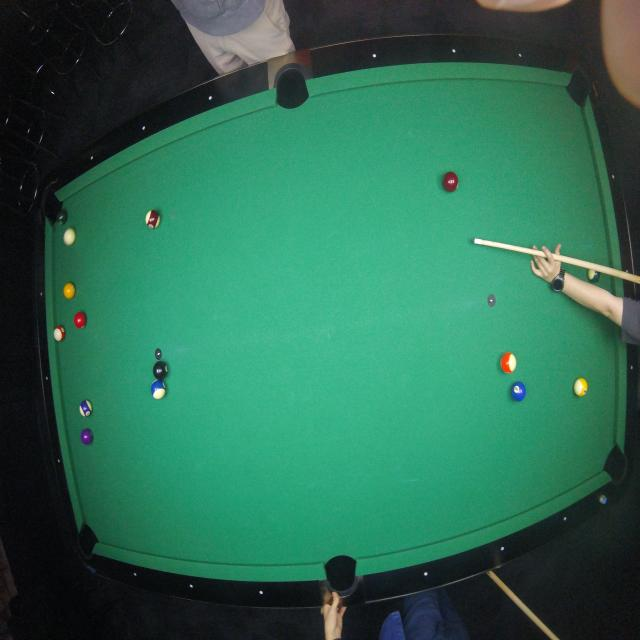cue ball: (61, 226, 76, 247)
other: (497, 348, 519, 374), (442, 168, 461, 193), (510, 378, 528, 404), (153, 360, 170, 382), (144, 210, 161, 230), (574, 376, 589, 398), (151, 379, 165, 399), (587, 265, 601, 282), (55, 210, 69, 227), (63, 282, 76, 300), (80, 429, 94, 445), (74, 312, 87, 329), (79, 399, 92, 416), (54, 326, 66, 342)
